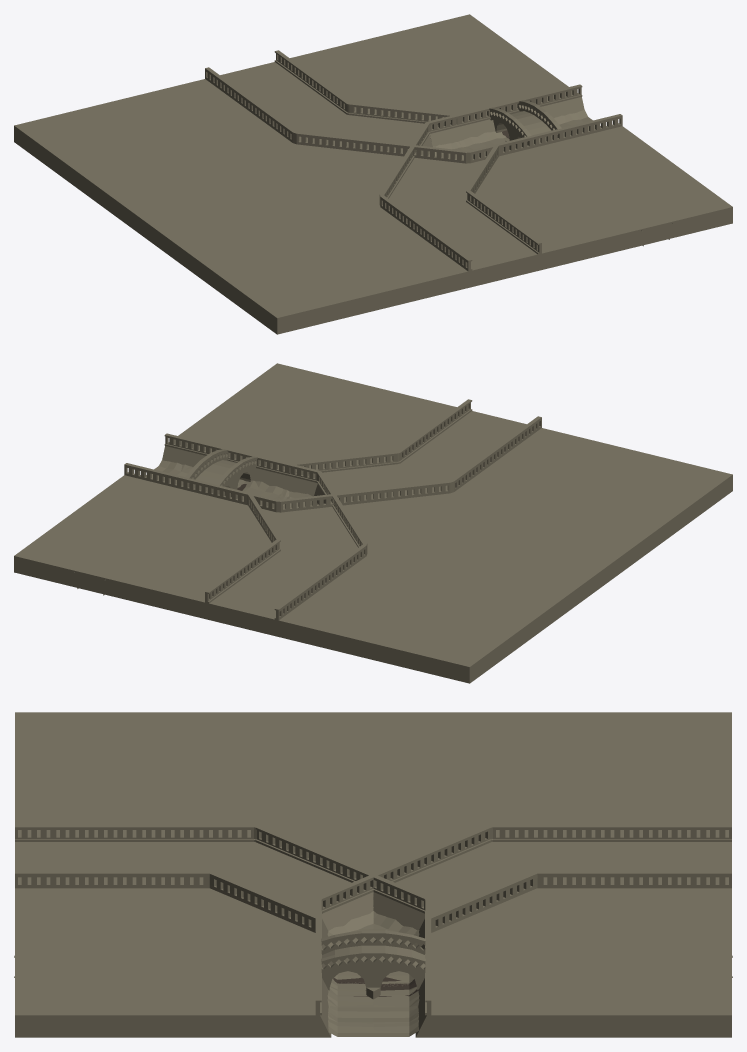
Rendered from TerrainCity.fbx.
3 views of the same model, one above another, from view 1: azimuth 30°, elevation 25°; view 2: azimuth 150°, elevation 25°; view 3: azimuth 270°, elevation 25° (orthographic). The views are drawn at different scales.
Visible parts, largest first — view 1: TerrainSegCityCurveRight, TerrainSegCityCurveLeft, TerrainSegCityStraight, Bridge; view 2: TerrainSegCityCurveRight, TerrainSegCityCurveLeft, TerrainSegCityStraight, Bridge; view 3: TerrainSegCityCurveRight, TerrainSegCityCurveLeft, TerrainSegCityStraight, Bridge, TerrainSegCityBridge.
Part boxes in pixels (x1,y1,x2,y2): TerrainSegCityCurveRight: [14, 15, 732, 334]; TerrainSegCityCurveLeft: [14, 14, 732, 334]; TerrainSegCityStraight: [318, 14, 732, 260]; Bridge: [489, 100, 672, 246]; TerrainSegCityCurveRight: [14, 364, 732, 683]; TerrainSegCityCurveLeft: [14, 364, 731, 682]; TerrainSegCityStraight: [14, 363, 428, 609]; Bridge: [74, 449, 257, 595]; TerrainSegCityCurveRight: [15, 712, 731, 1036]; TerrainSegCityCurveLeft: [15, 712, 731, 1037]; TerrainSegCityStraight: [15, 899, 731, 1037]; Bridge: [14, 930, 732, 999]; TerrainSegCityBridge: [333, 977, 419, 996].
Size of the model in its own units: 12000 by 885 by 12034.
